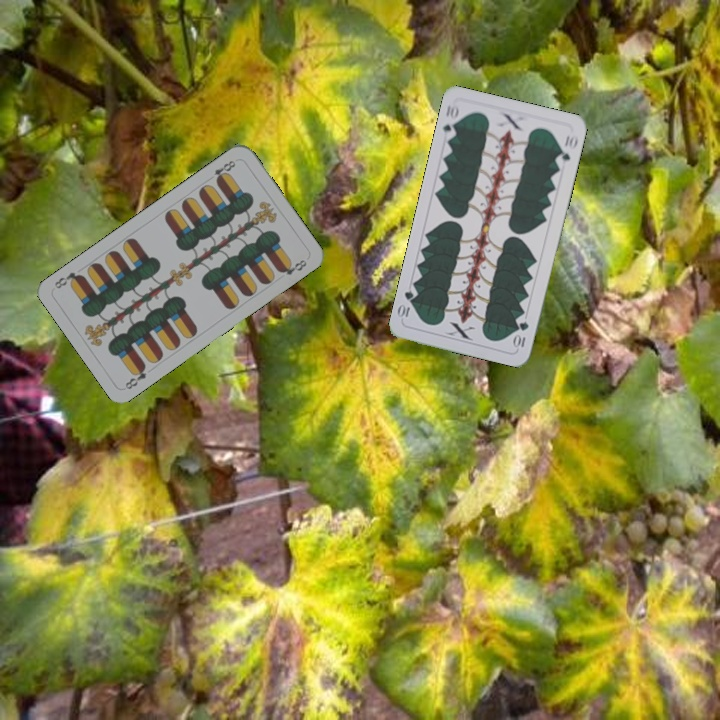E8: (204, 156, 238, 185), (121, 361, 149, 392)
G10: (439, 100, 462, 141), (510, 317, 531, 351)
